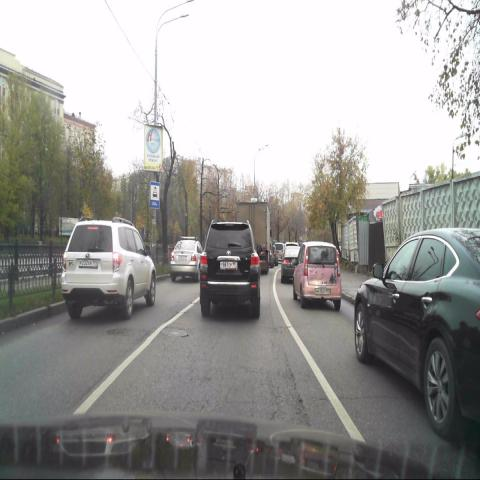7_5: (149, 180, 160, 208)
